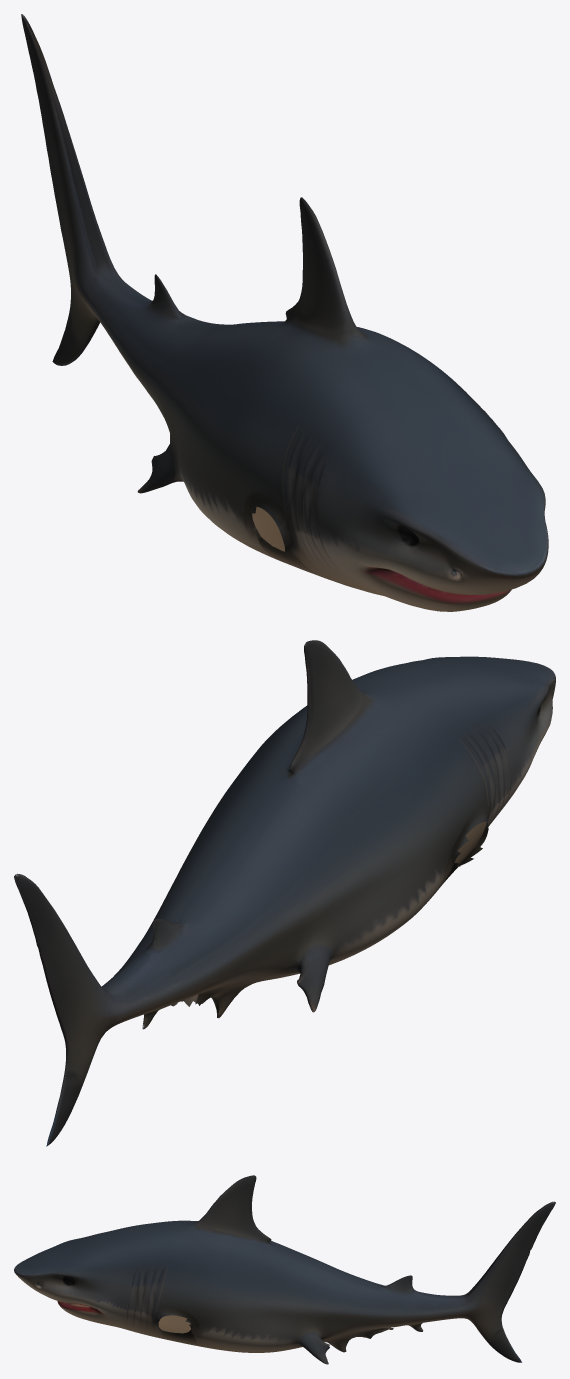
File: camap.fbx
3 renders of one model, top to bottom at view 1: azimuth 30°, elevation 25°; view 2: azimuth 150°, elevation 25°; view 3: azimuth 270°, elevation 25°, orthographic. The views are drawn at different scales.
Visible parts, largest first — view 1: model; view 2: model; view 3: model.
Part boxes in pixels (x1,y1,x2,y2): model: (21, 14, 548, 611); model: (14, 640, 555, 1146); model: (14, 1175, 555, 1364).
Size of the model in its own units: 576 by 915 by 2460.
